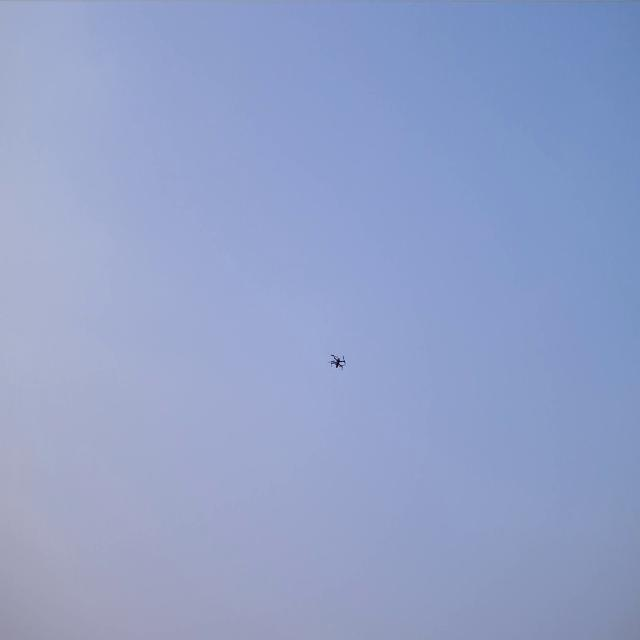UAV: (326, 350, 346, 374)
